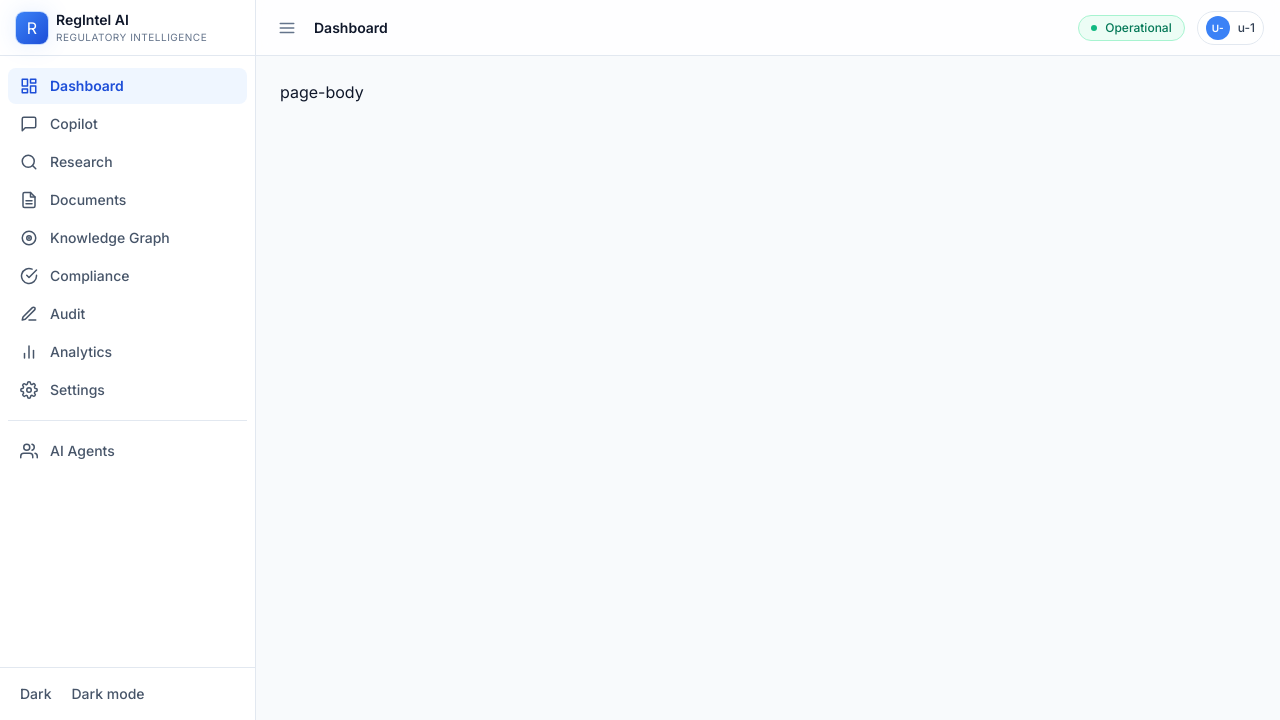
Test: desktop sidebar › 2. collapse toggle works and persists
The image size is (1280, 720).
Expected: the text "page-body" is shown, [280,82,364,102]
Expected: the link "Dashboard" is shown, [8,68,247,104]
Step 1. Click the button named "Collapse sidebar" → (287, 28), box [272,12,302,42]
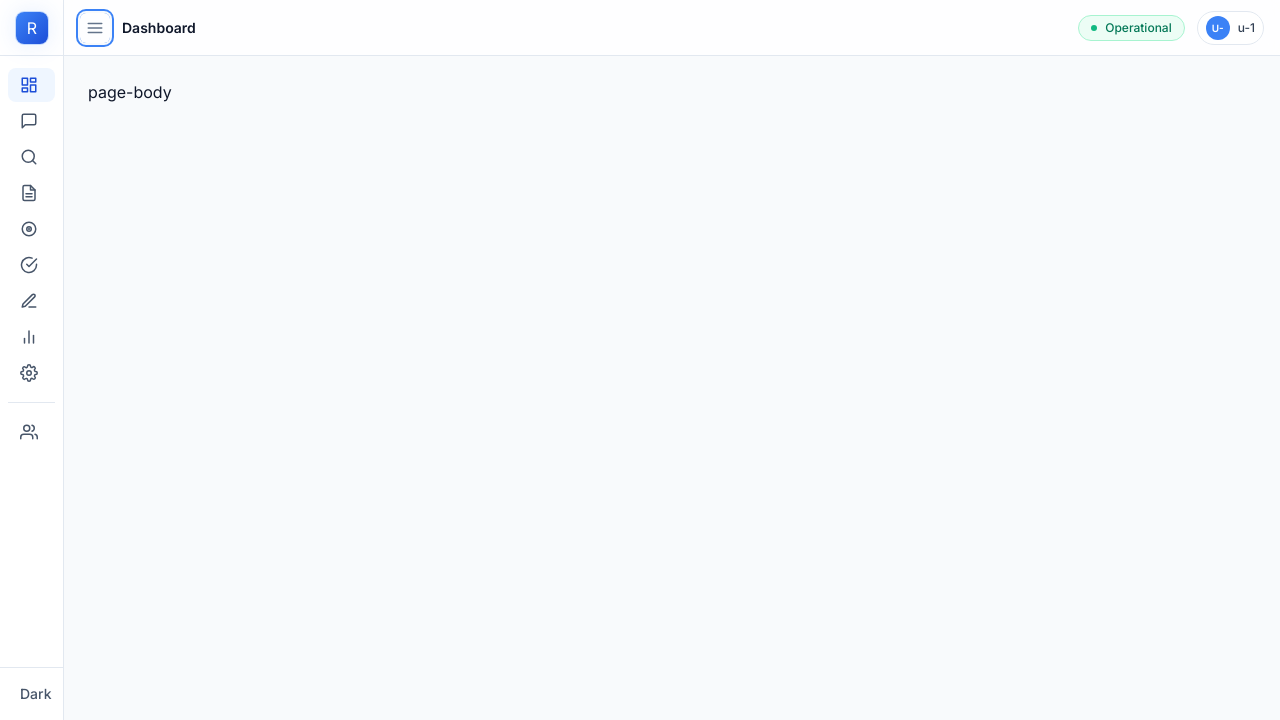
Now the link "Dashboard" no longer shows "Dashboard"
Step 2. Click the button named "Expand sidebar" → (95, 28), box [80,12,110,42]
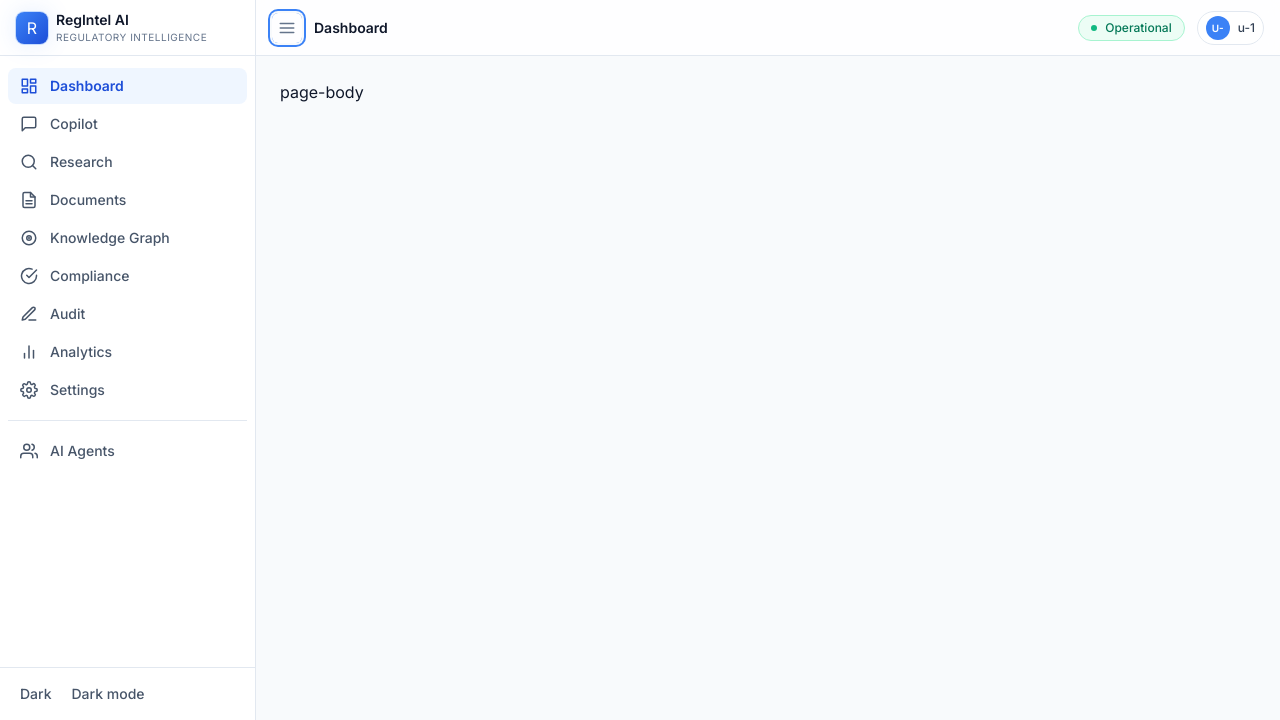
Now the link "Dashboard" is shown, box [8,68,247,104]
